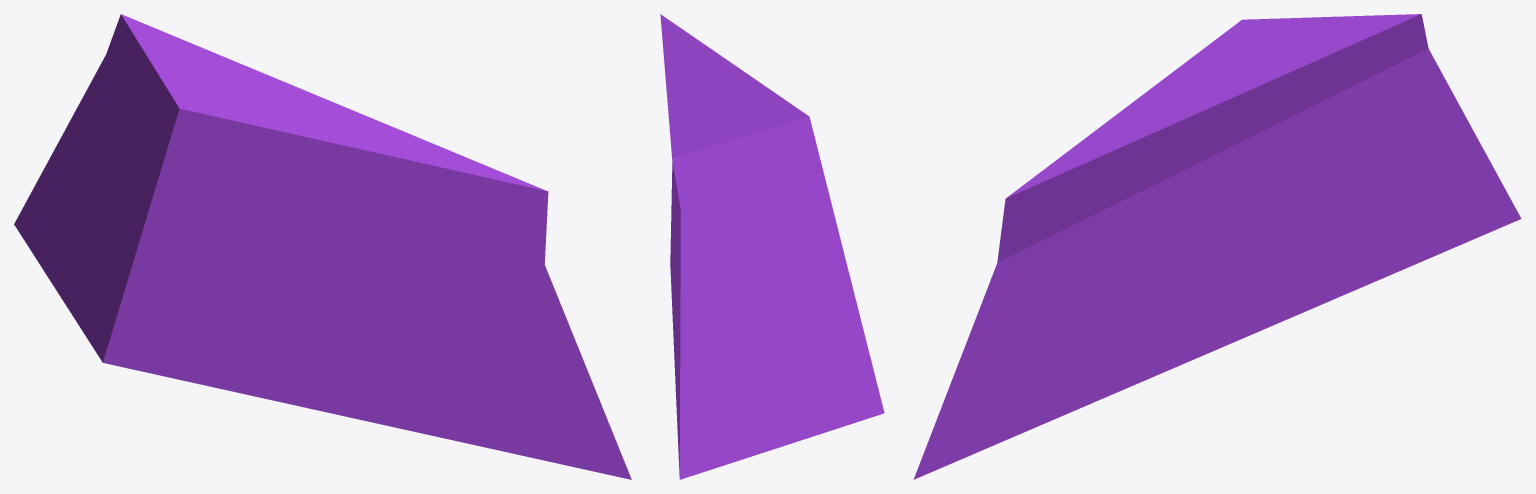
File: Glass_100_3_5_chunks.fbx
3 renders of one model, left to right at view 1: azimuth 30°, elevation 25°; view 2: azimuth 150°, elevation 25°; view 3: azimuth 270°, elevation 25°, orthographic. The views are drawn at different scales.
Visible parts, largest first — view 1: Glass_100_3_5_0; view 2: Glass_100_3_5_0; view 3: Glass_100_3_5_0.
Boxes of the visible parts, x1,y1,x2,y2 form: Glass_100_3_5_0: (14,14,631,479); Glass_100_3_5_0: (660,14,884,479); Glass_100_3_5_0: (913,14,1521,479).
Size of the model in its own units: 50.48 by 45.94 by 74.21.
